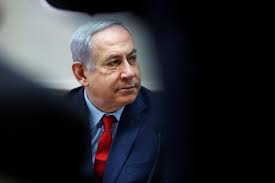middle_eastern_male: (74, 27, 142, 102)
